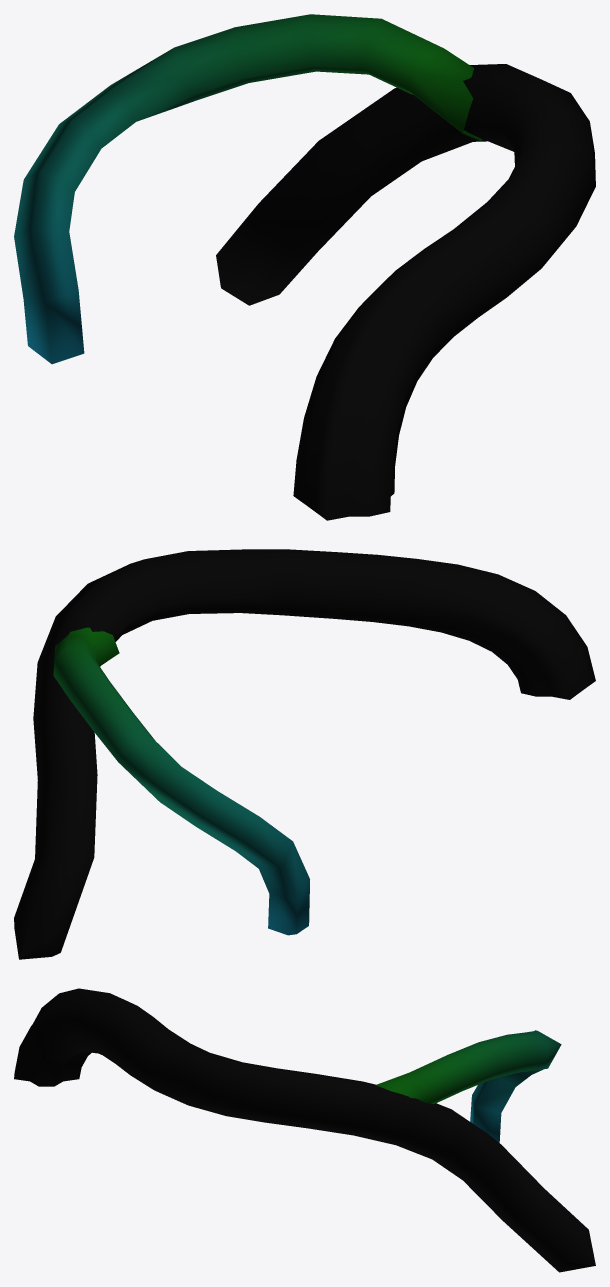
The model's file is DryBranchesHoriz5.fbx.
3 renders of one model, top to bottom at view 1: azimuth 30°, elevation 25°; view 2: azimuth 150°, elevation 25°; view 3: azimuth 270°, elevation 25°, orthographic. The views are drawn at different scales.
Visible parts, largest first — view 1: Tree_0; view 2: Tree_0; view 3: Tree_0.
Boxes of the visible parts, left/top/right/bottom form: Tree_0: left=14, top=14, right=595, bottom=520; Tree_0: left=14, top=549, right=595, bottom=959; Tree_0: left=14, top=988, right=595, bottom=1272.
Size of the model in its own units: 56.33 by 39.57 by 90.76.
